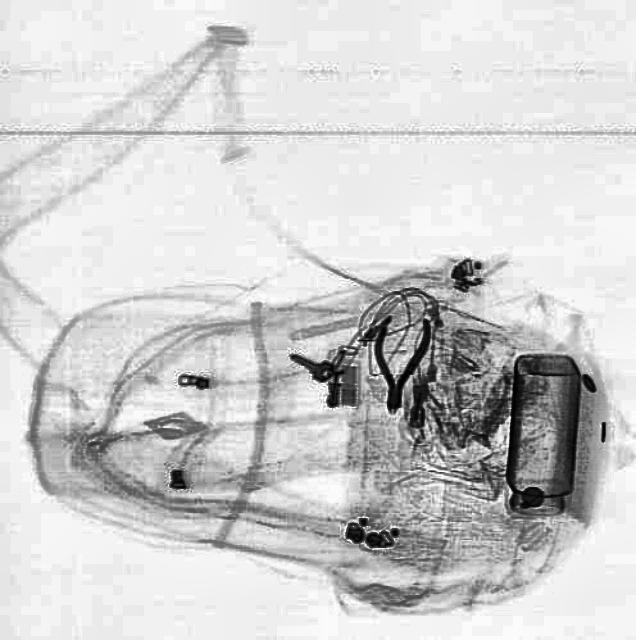Pliers: (363, 312, 431, 414)
